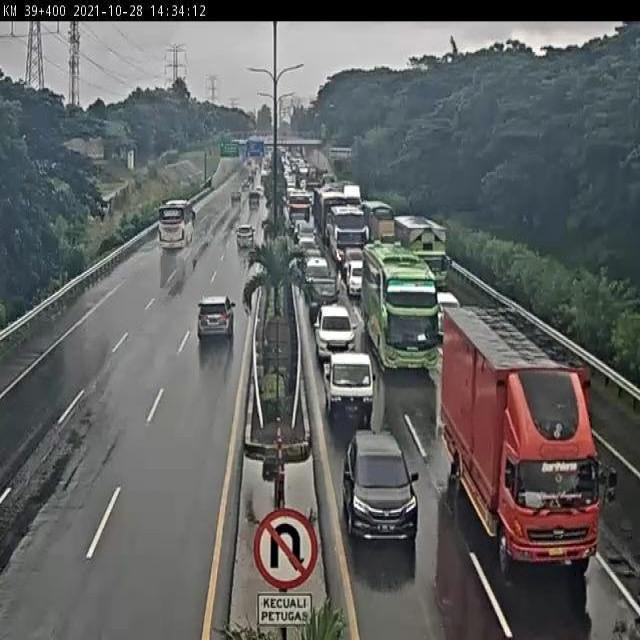car: (343, 431, 420, 539), (322, 340, 365, 392), (315, 303, 354, 341), (303, 253, 336, 288), (344, 259, 369, 295), (234, 223, 257, 255), (297, 234, 317, 258)
truck: (444, 309, 596, 563), (364, 249, 442, 368), (392, 216, 453, 292), (330, 204, 366, 261), (158, 201, 197, 251)
